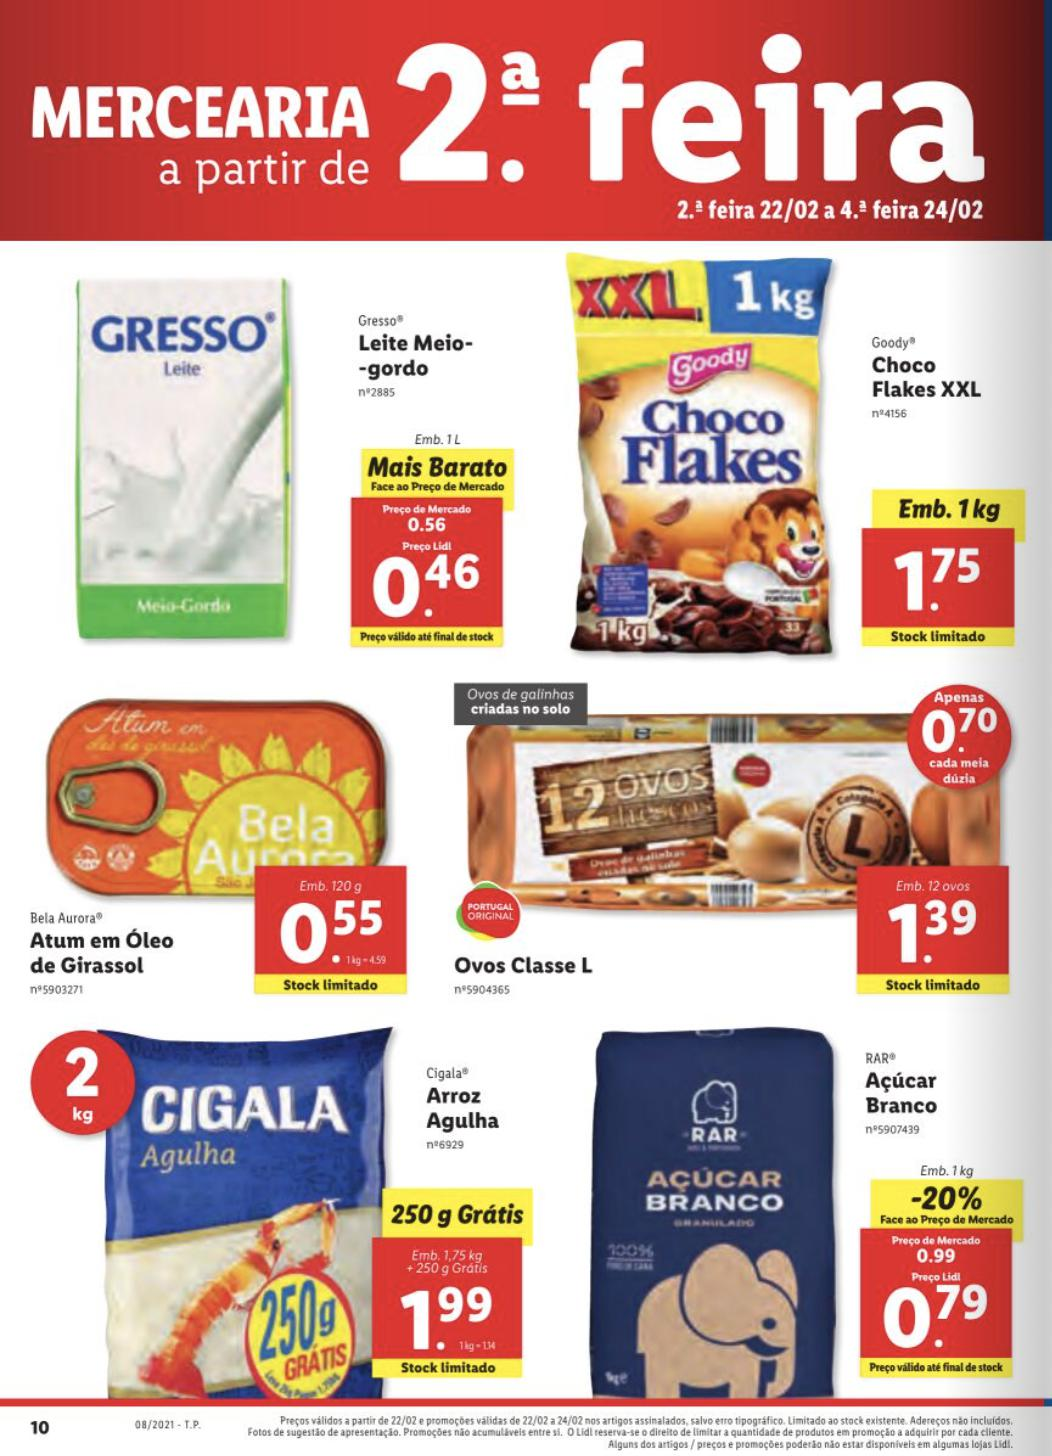name: (21, 925, 176, 982), (344, 329, 473, 380), (864, 356, 989, 407), (453, 952, 611, 982), (860, 1069, 947, 1123), (420, 1083, 506, 1134)
price: (873, 1280, 1006, 1352), (360, 551, 492, 618), (276, 894, 393, 967), (880, 543, 996, 616), (395, 1280, 496, 1357), (883, 894, 986, 963)
product: (549, 243, 1024, 658), (26, 1020, 546, 1390), (438, 682, 1033, 1005), (44, 267, 529, 656), (560, 1016, 1040, 1390), (16, 671, 420, 1005)
promotion: (907, 1180, 986, 1212)
